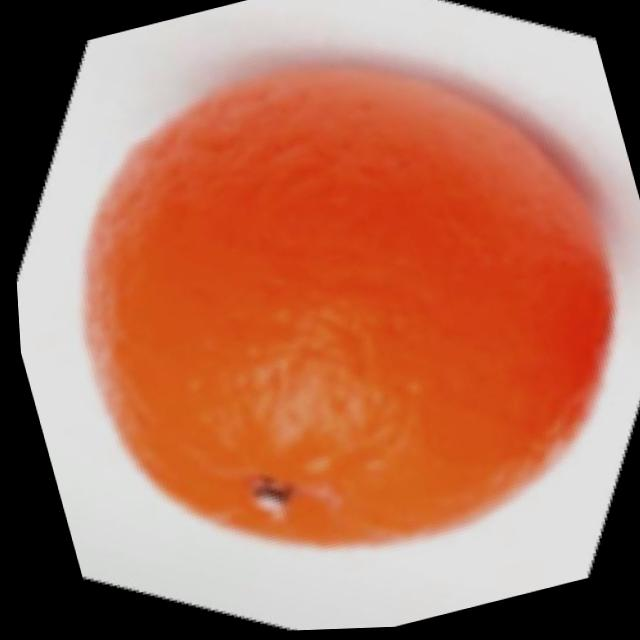Orange: (20, 4, 640, 611)
